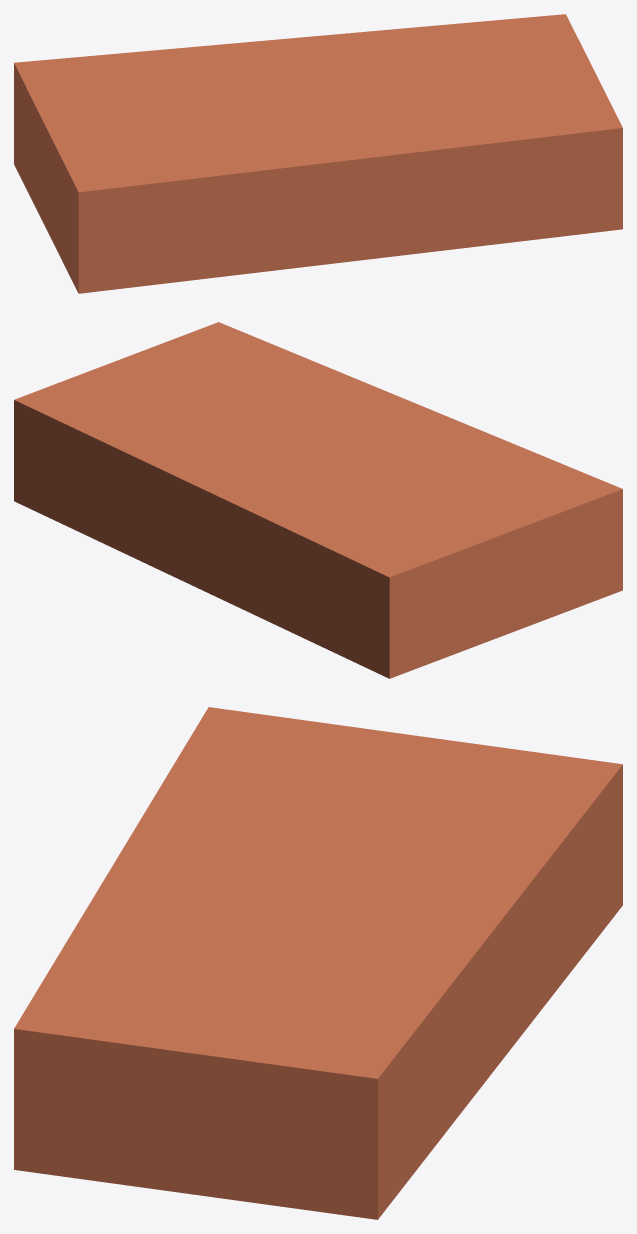
Rendered from building.dae.
3 renders of one model, top to bottom at view 1: azimuth 30°, elevation 25°; view 2: azimuth 150°, elevation 25°; view 3: azimuth 270°, elevation 25°, orthographic. The views are drawn at different scales.
Parts seen in each view (by area): view 1: Object; view 2: Object; view 3: Object.
Part boxes in pixels (bbox=[...]): Object: bbox=[14, 14, 622, 293]; Object: bbox=[14, 322, 622, 678]; Object: bbox=[14, 707, 622, 1219].
Size of the model in its own units: 9.51 by 1.68 by 6.58.
